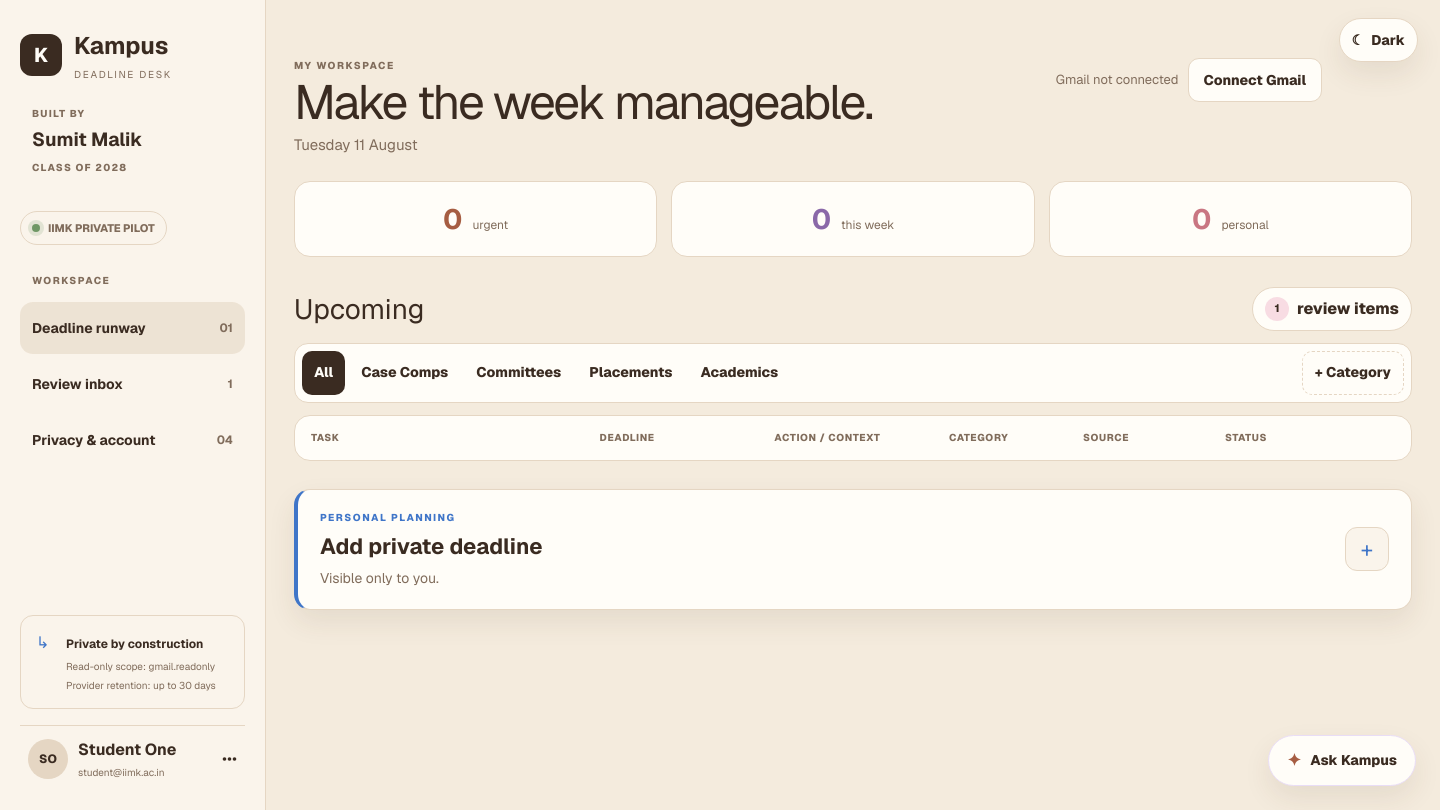
Test: dashboard local actions › does not offer dashboard approval when a review has no extracted deadline
This screenshot has width=1440, height=810.
Click the button "Review inbox 1".
click(132, 384)  # box [20,358,245,410]
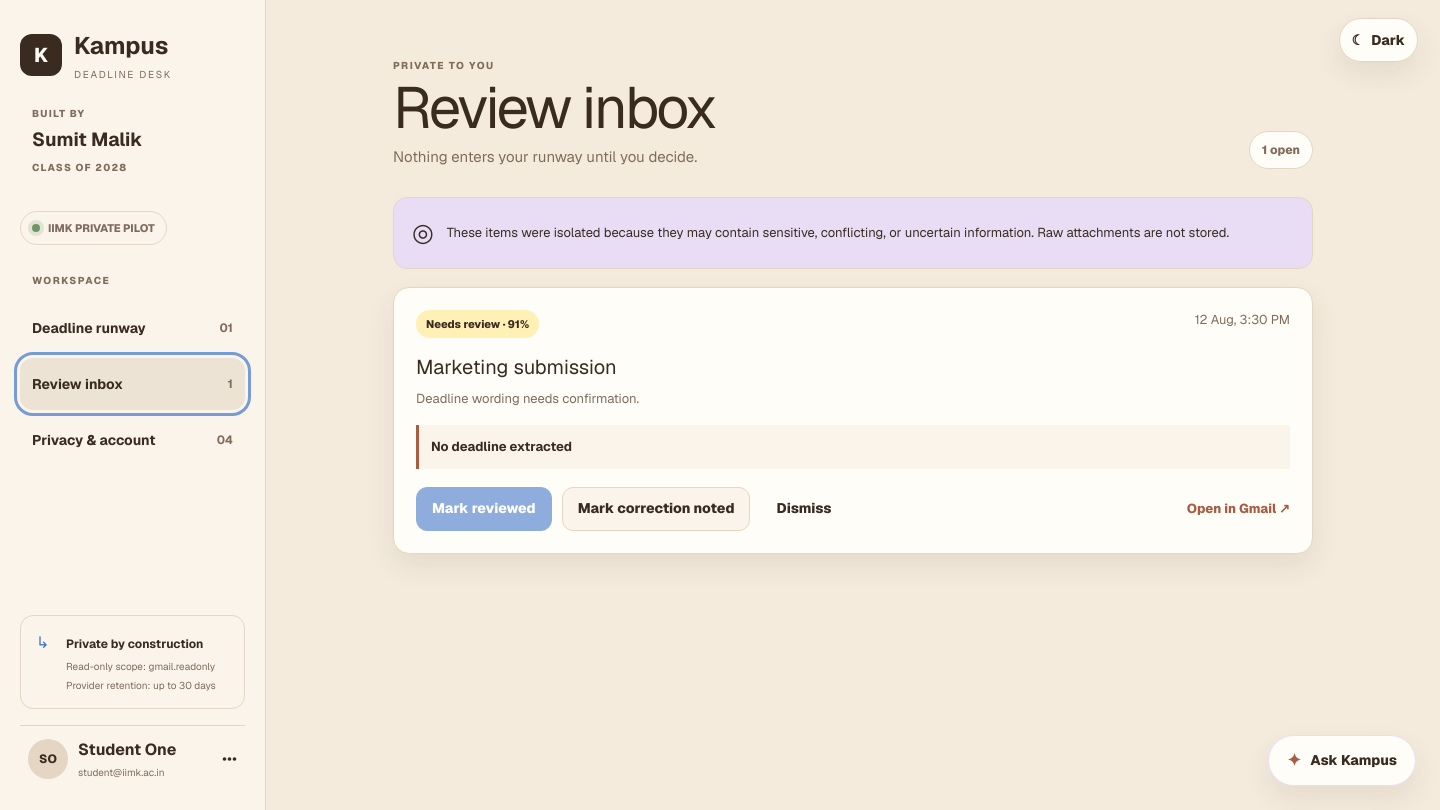
Expected: the button "Mark reviewed" is disabled, [416,487,552,531]
